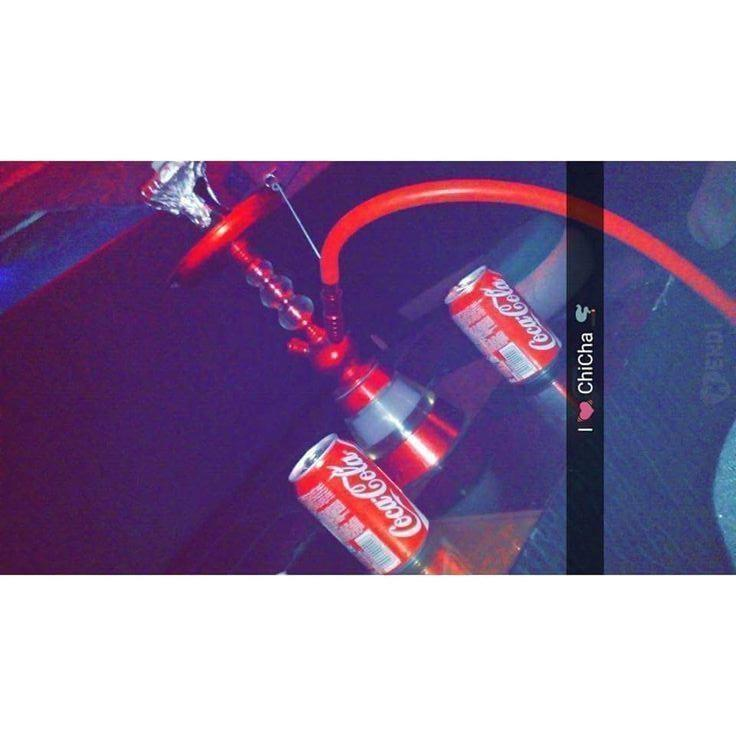tin can: (286, 433, 432, 573), (442, 261, 566, 393)
